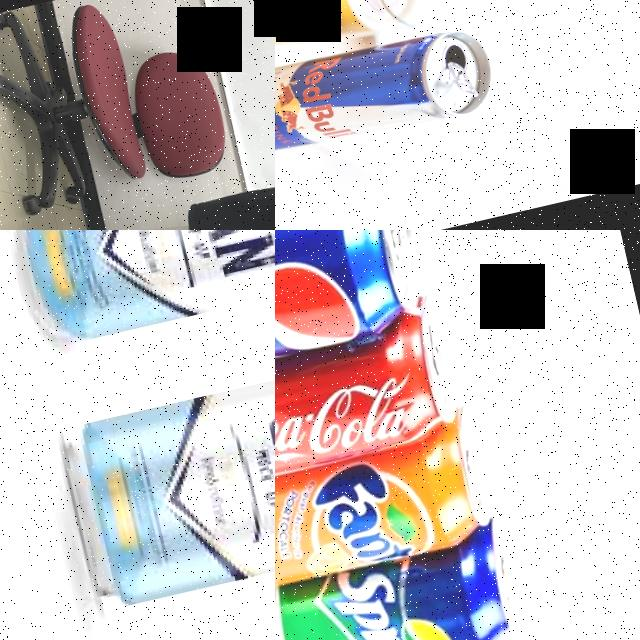can: (53, 328, 275, 618), (275, 401, 503, 598), (275, 291, 467, 496), (275, 18, 499, 182), (0, 230, 275, 351), (275, 517, 534, 640), (275, 230, 437, 389)
